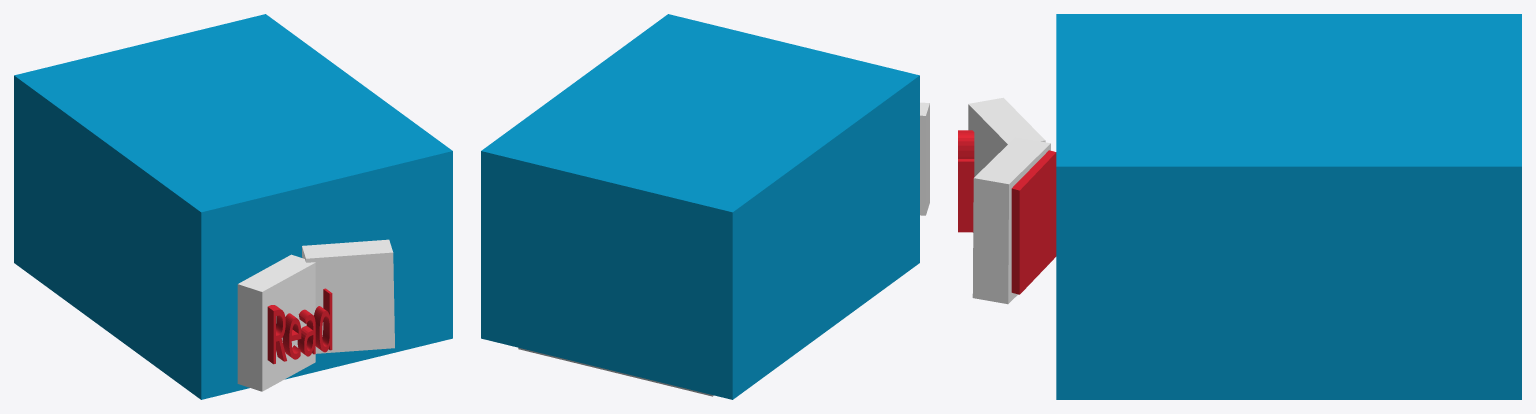
Rendered from tinker.obj.
3 renders of one model, left to right at view 1: azimuth 30°, elevation 25°; view 2: azimuth 150°, elevation 25°; view 3: azimuth 270°, elevation 25°, orthographic. The views are drawn at different scales.
Parts seen in each view (by area): view 1: group_0_40919, group_0_16448250, group_0_15277357; view 2: group_0_40919, group_0_16448250, group_0_12568524; view 3: group_0_40919, group_0_16448250, group_0_15277357.
Part boxes in pixels (bbox=[...]): group_0_40919: bbox=[14, 14, 452, 399]; group_0_16448250: bbox=[237, 239, 394, 391]; group_0_15277357: bbox=[267, 288, 332, 364]; group_0_40919: bbox=[481, 14, 919, 399]; group_0_16448250: bbox=[920, 102, 929, 215]; group_0_12568524: bbox=[518, 347, 713, 396]; group_0_40919: bbox=[1056, 14, 1521, 399]; group_0_16448250: bbox=[968, 97, 1050, 304]; group_0_15277357: bbox=[958, 130, 1056, 294].
Size of the model in its own units: 66 by 55 by 103.
